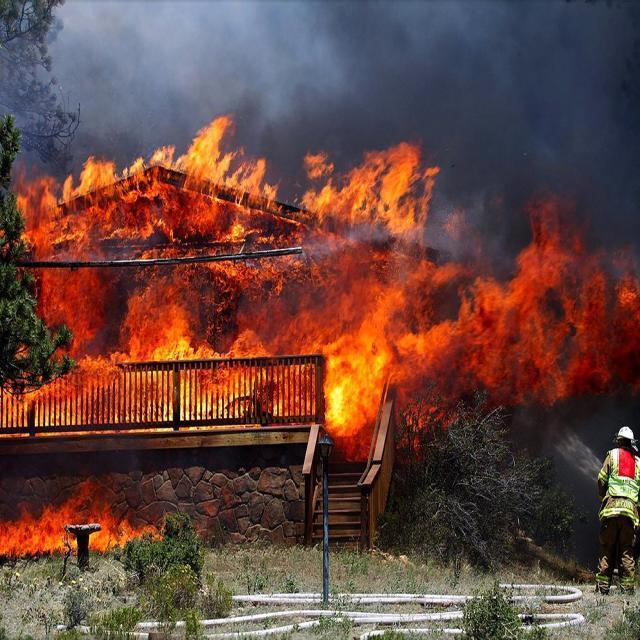Fire: (11, 186, 626, 446), (3, 502, 170, 558)
Smoke: (126, 38, 628, 250)
